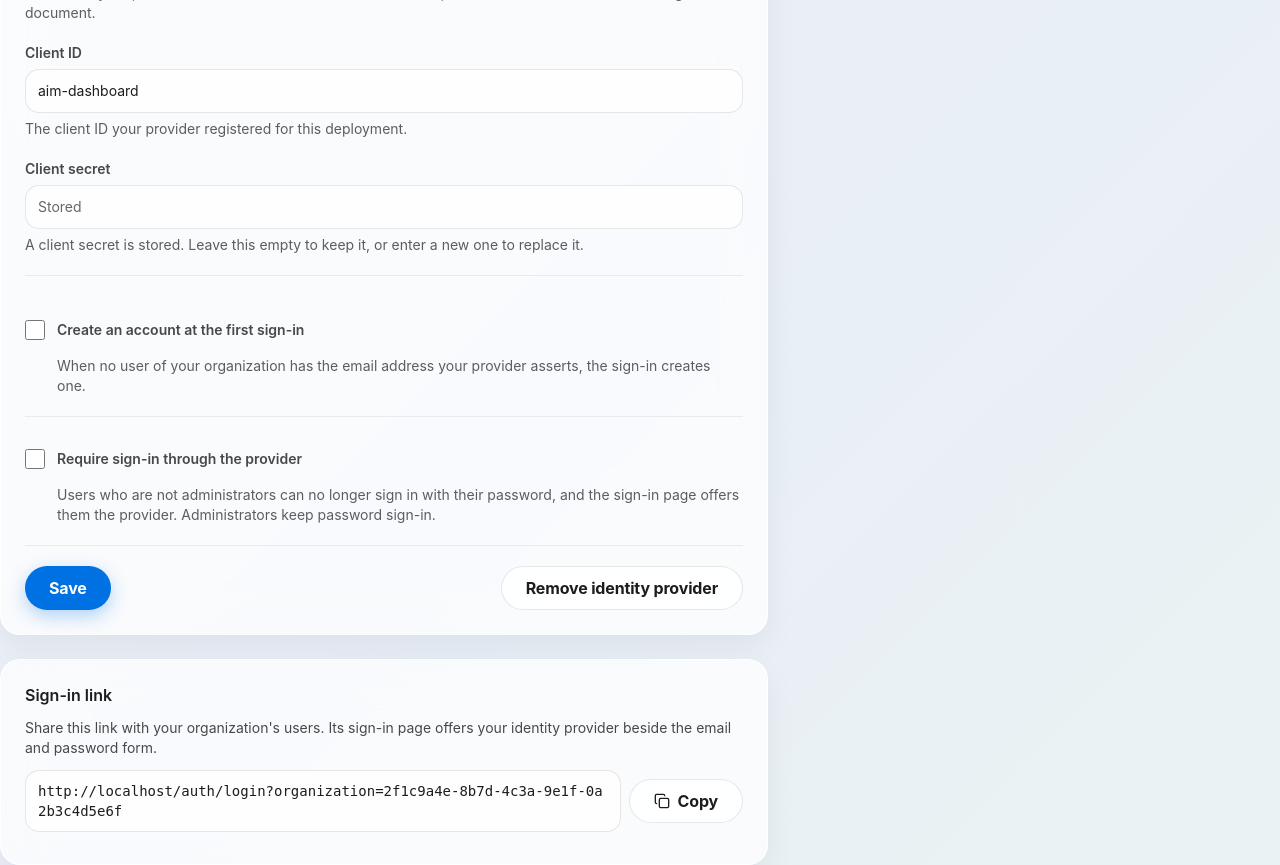
Scenario: the identity provider page › removes nothing when the confirmation is cancelled
(page scrolled)
Click the button "Remove identity provider" at (622, 588), box [501,566,743,610]
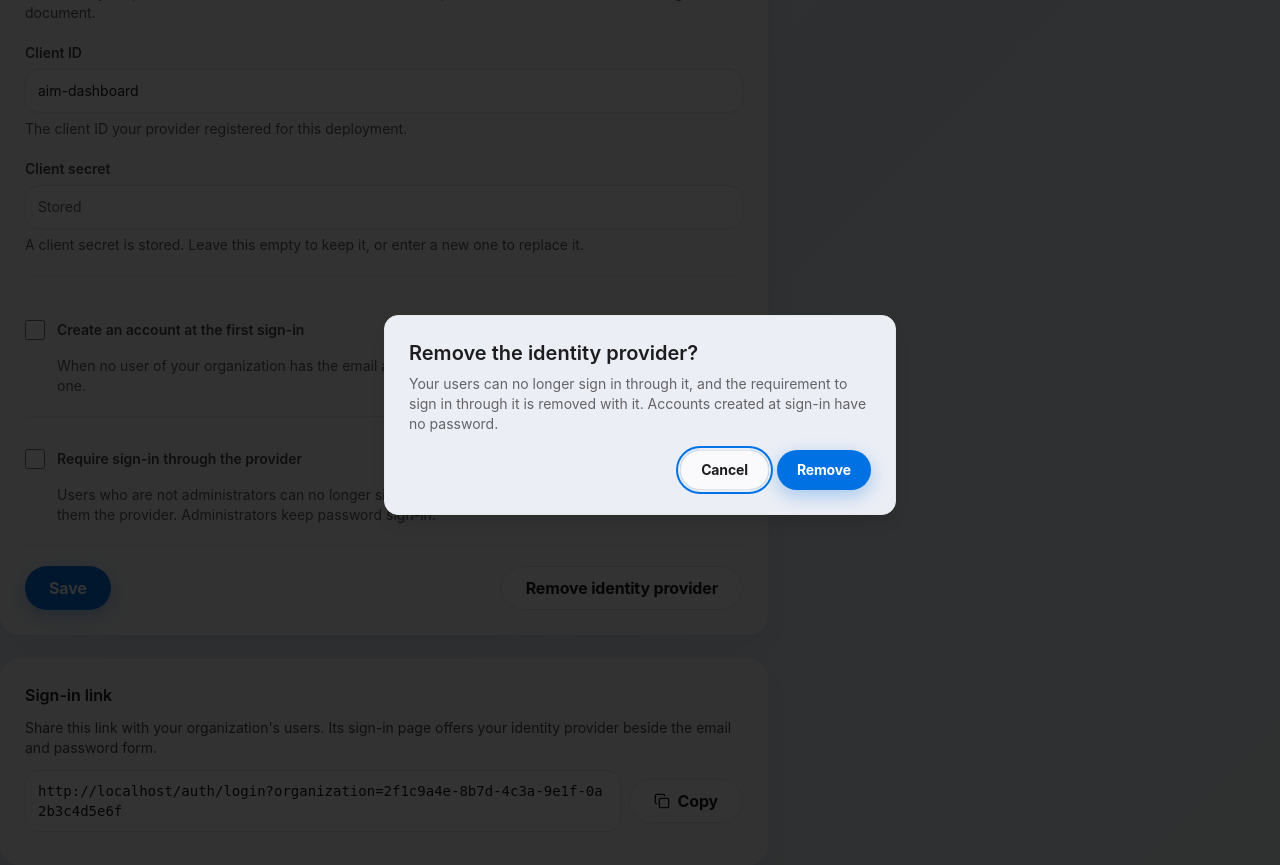
Click the button "Cancel" at (724, 470), box [680,450,769,490]
(page scrolled)
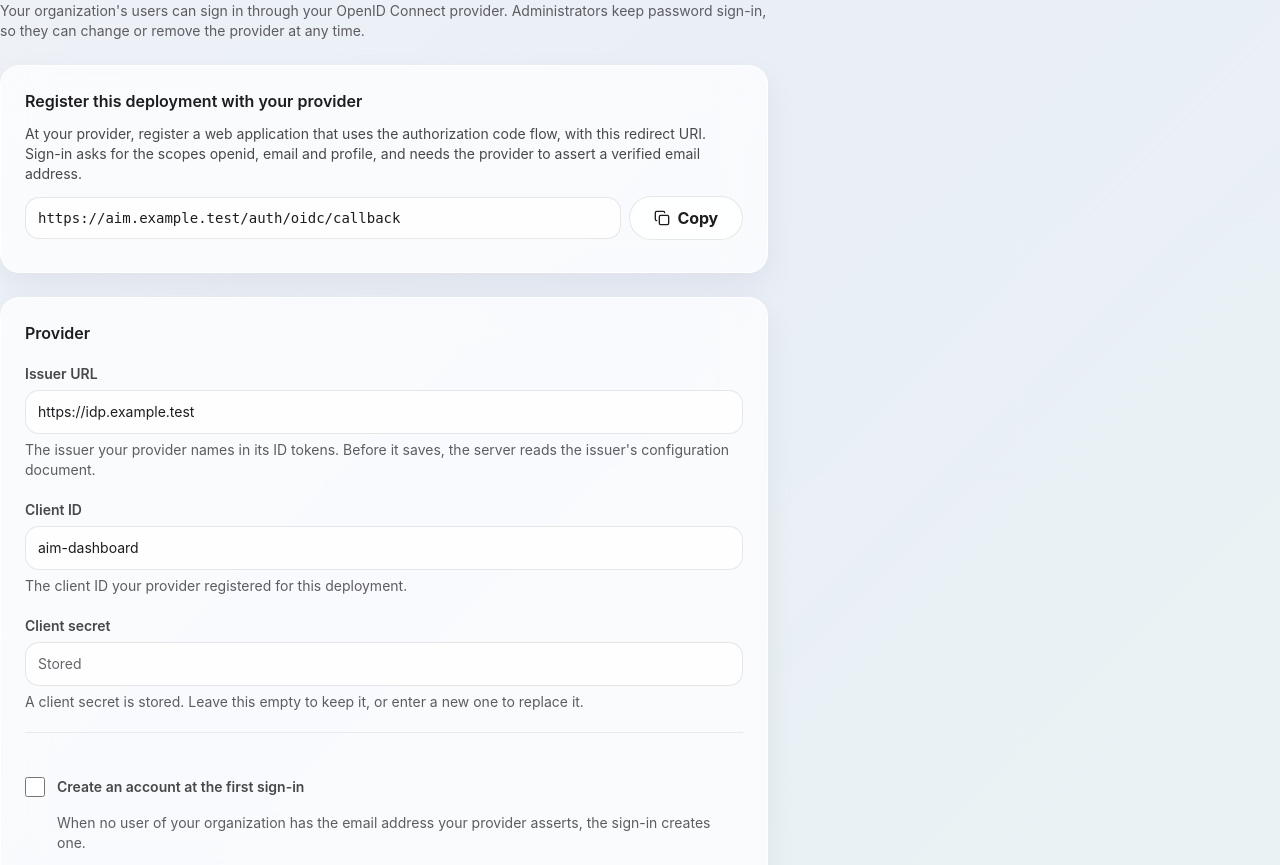
expect the field labelled "Issuer URL" holds "https://idp.example.test": met, box [25,390,743,434]
expect the dialog is gone: met
